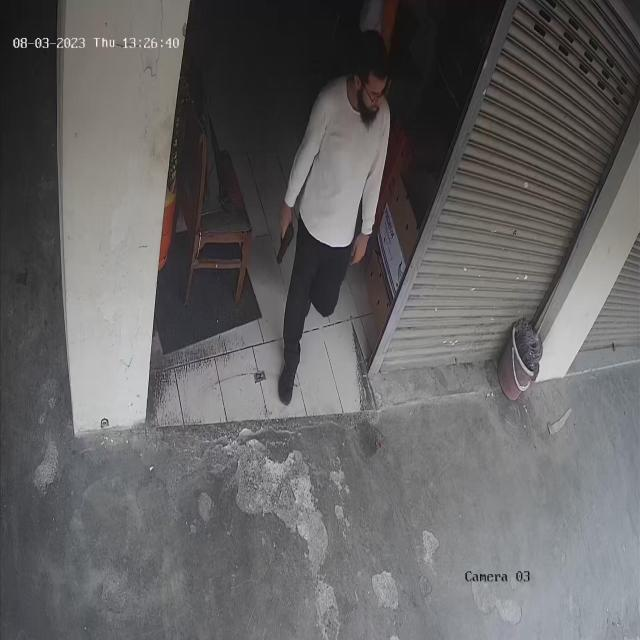Gun: (268, 208, 304, 278)
